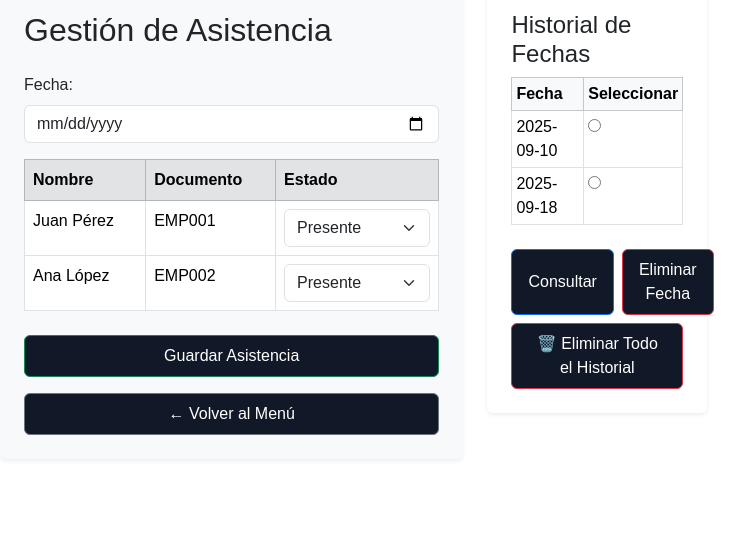
Test case: GestionAsistencia › muestra mensaje si intenta eliminar historial sin seleccionar fecha
Expected: the text "Juan Pérez" is shown, 24,201 -> 146,256
Click the button "Eliminar Fecha": (668, 282) 622,249 -> 714,315
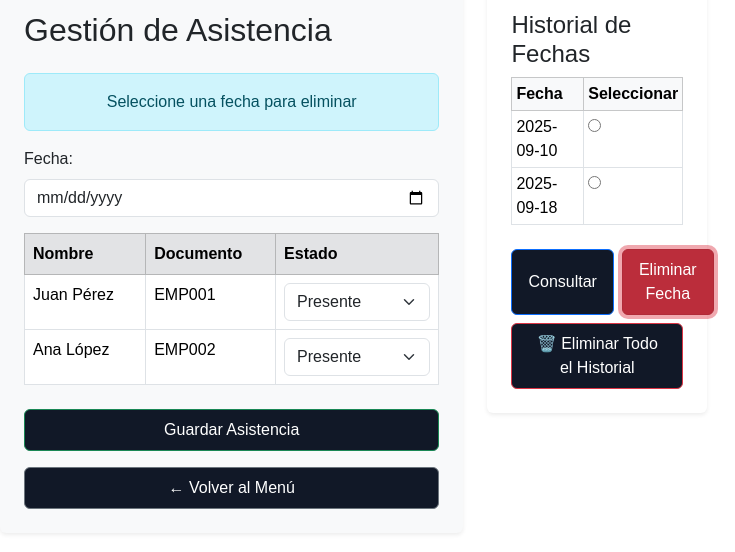
Expected: the text "Seleccione una fecha para eliminar" is shown, 24,73 -> 439,131
